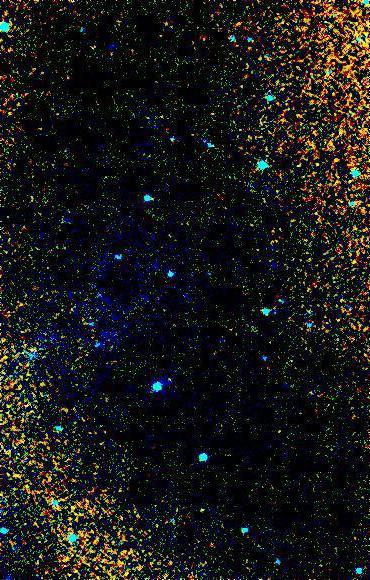star: (183, 493, 213, 523)
